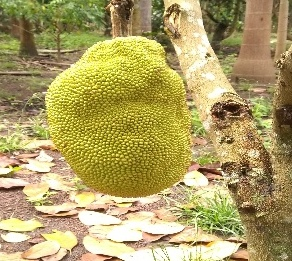Mit: (47, 34, 196, 193)
